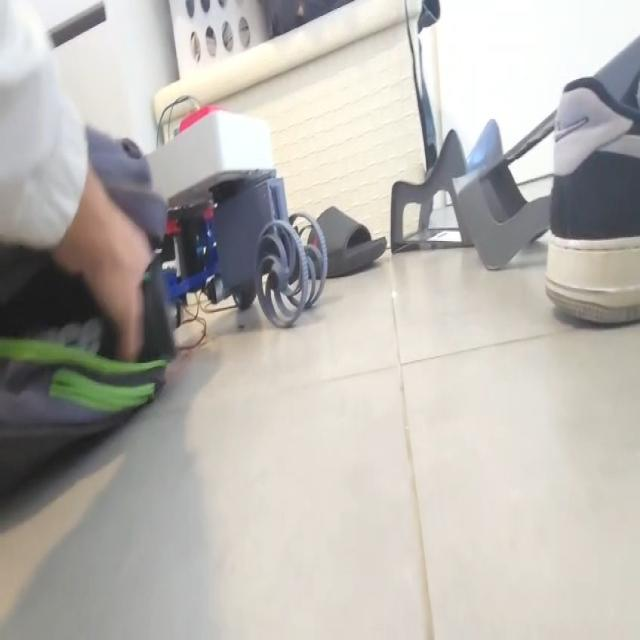Robot: (143, 100, 329, 330)
